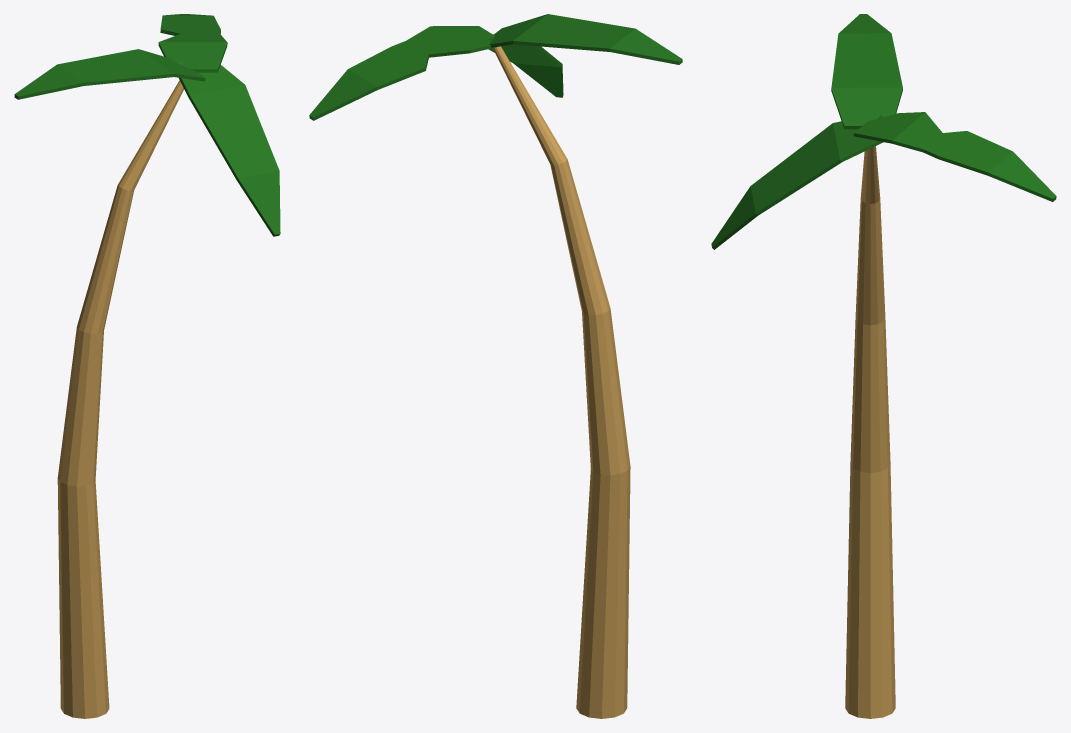
The model's file is Palm1.fbx.
3 renders of one model, left to right at view 1: azimuth 30°, elevation 25°; view 2: azimuth 150°, elevation 25°; view 3: azimuth 270°, elevation 25°, orthographic. The views are drawn at different scales.
Parts seen in each view (by area): view 1: Cylinder.005; view 2: Cylinder.005; view 3: Cylinder.005.
Boxes of the visible parts, x1,y1,x2,y2 form: Cylinder.005: [14, 14, 280, 718]; Cylinder.005: [309, 14, 682, 718]; Cylinder.005: [711, 14, 1056, 718].
Size of the model in its own units: 205 by 224 by 478.
